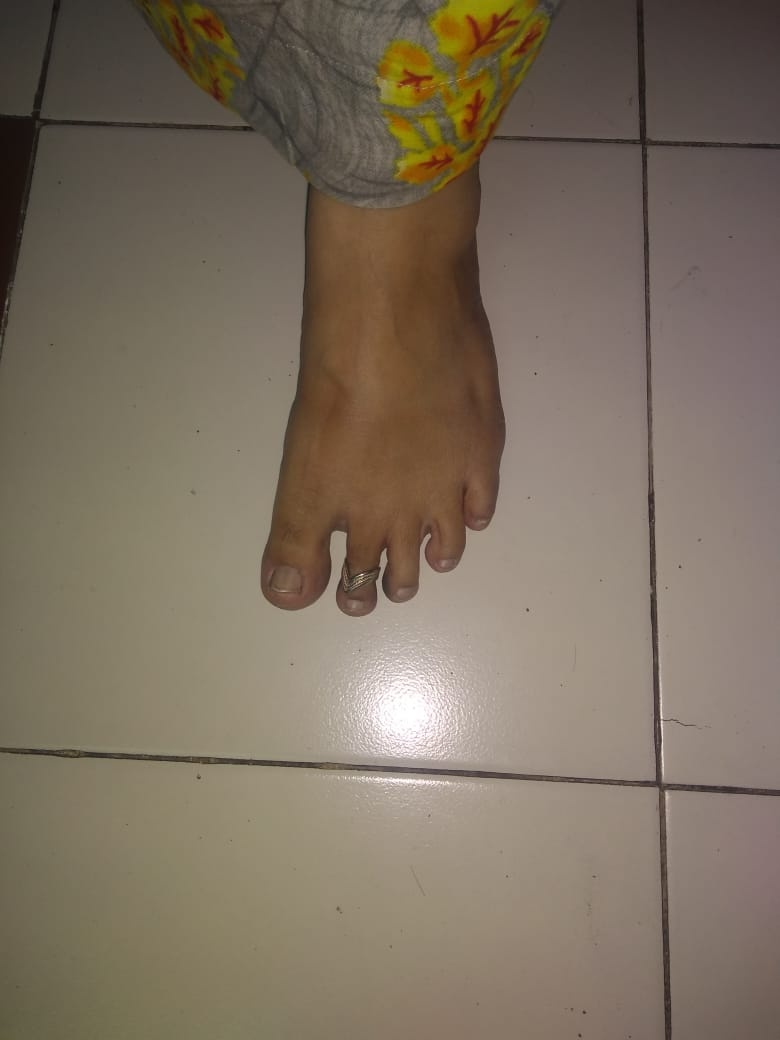feet: (215, 73, 507, 611)
